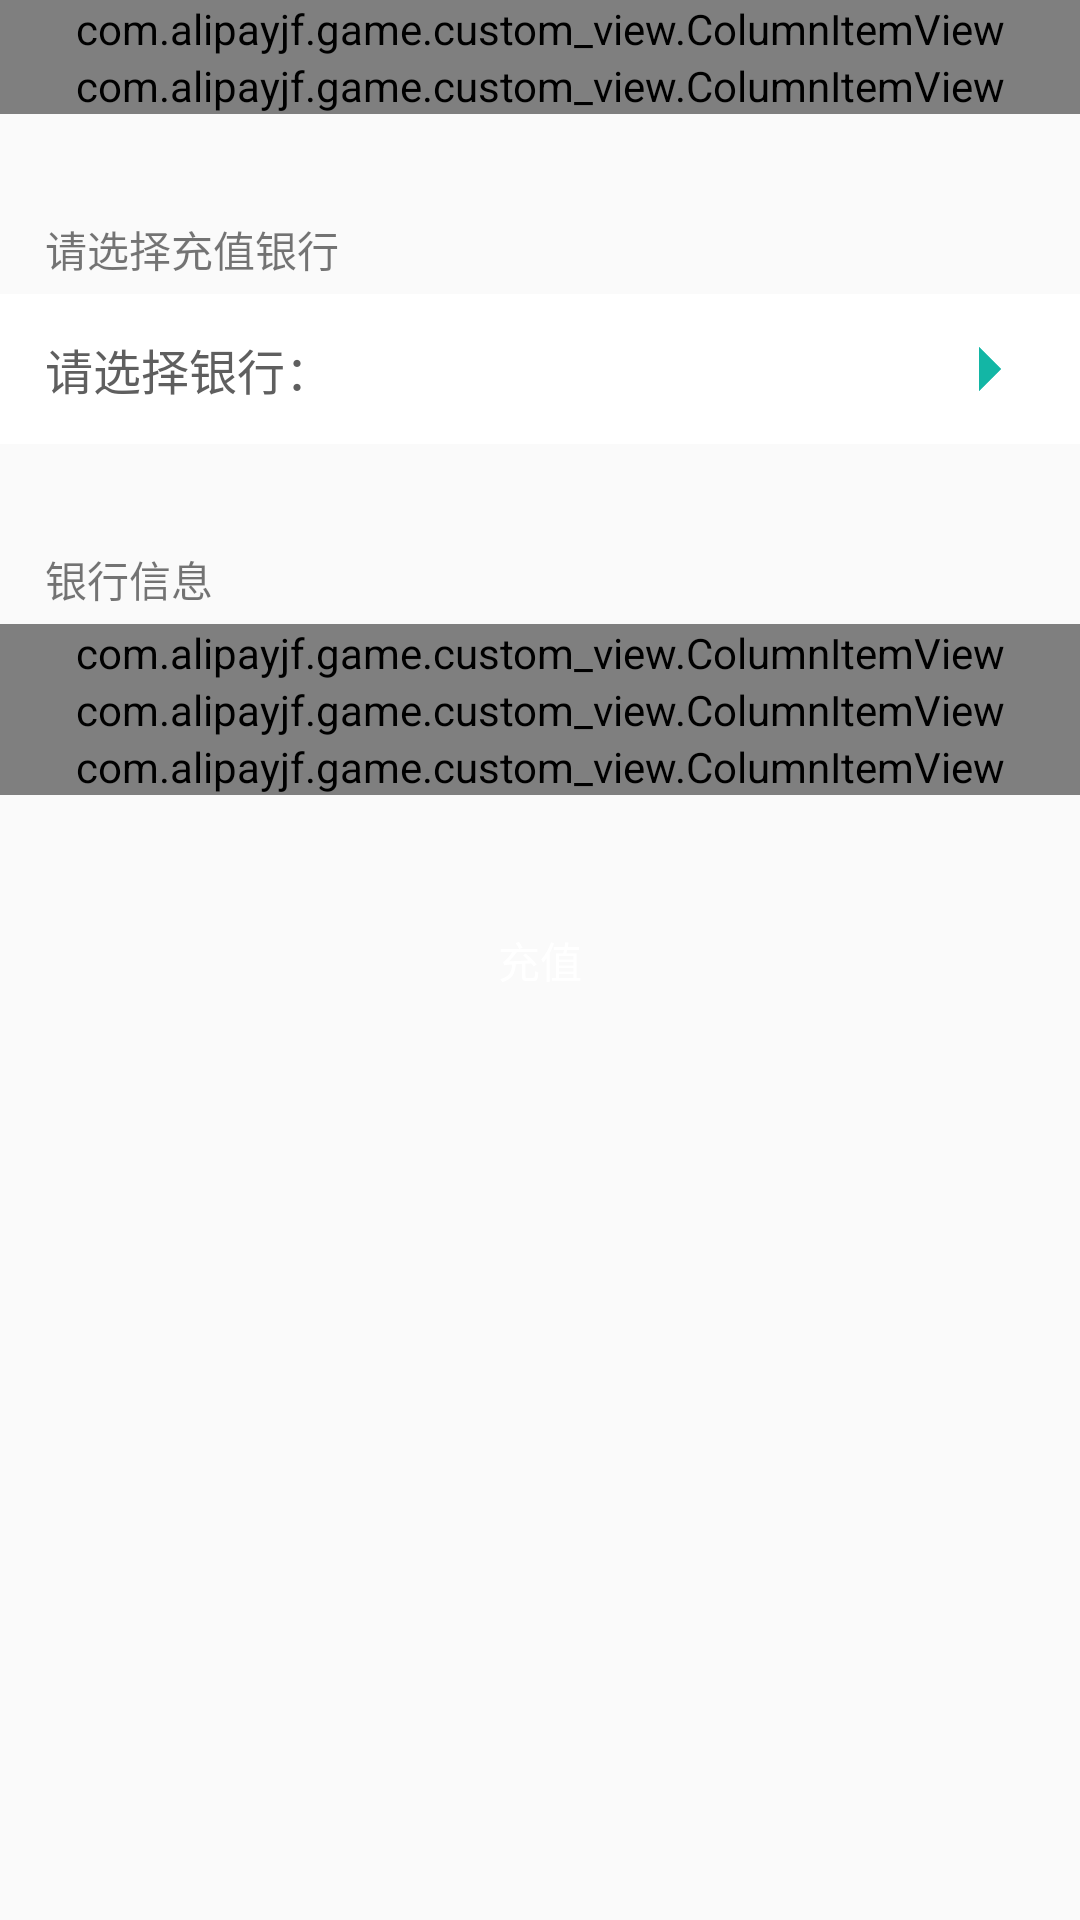

Named icons in this screenshot (1080px×1920px) and their centers, (x=x, y=y):
page turning right: (x=990, y=369)
